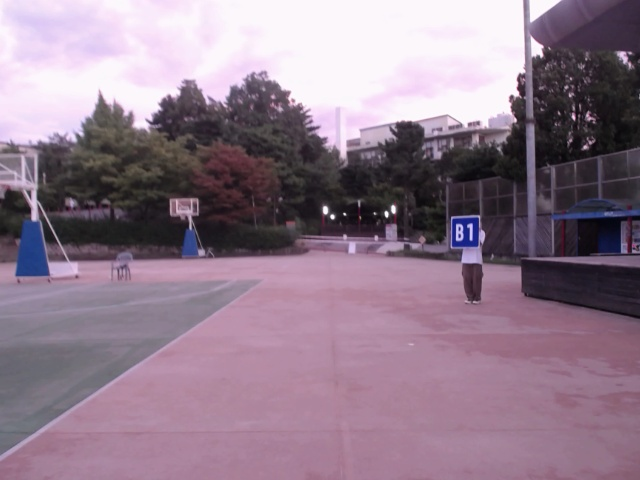delivery_b1: (450, 216, 479, 249)
